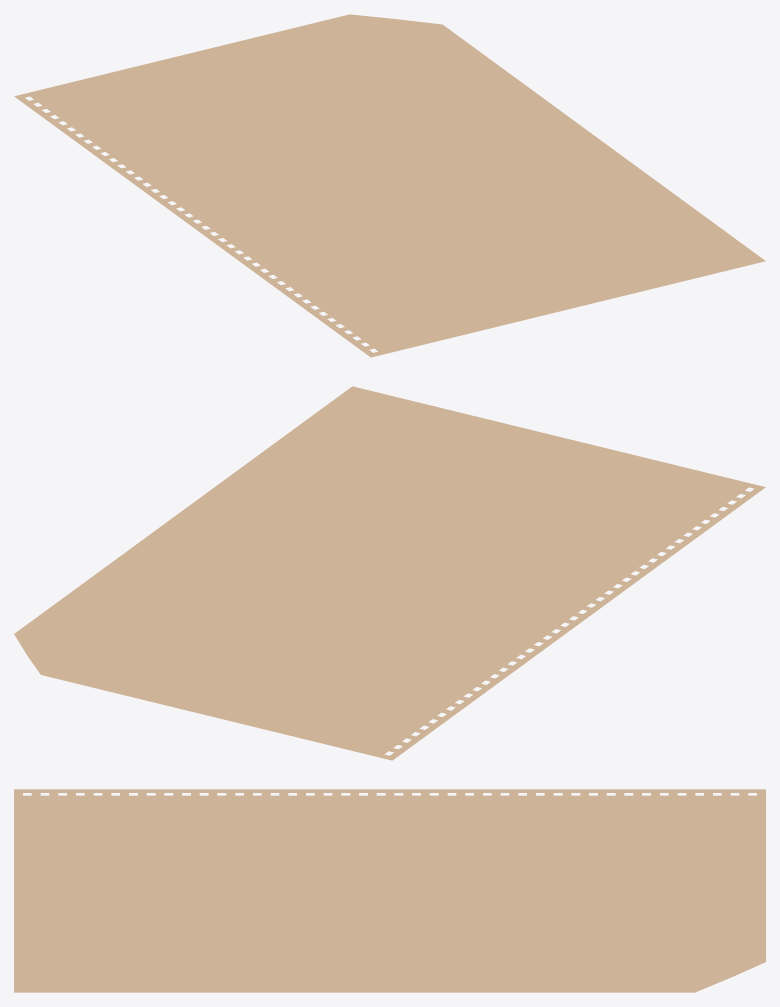
File: Papper.glb
The picture shows the model from 3 angles, top to bottom: view 1: azimuth 30°, elevation 25°; view 2: azimuth 150°, elevation 25°; view 3: azimuth 270°, elevation 25°; orthographic projection. The views are drawn at different scales.
Visible parts, largest first — view 1: Plane; view 2: Plane; view 3: Plane.
Part boxes in pixels (bbox=[...]): Plane: bbox=[14, 14, 765, 357]; Plane: bbox=[14, 386, 765, 760]; Plane: bbox=[14, 789, 765, 992].
Bounding box in the file's own units: 1.17 × 0 × 1.84.
